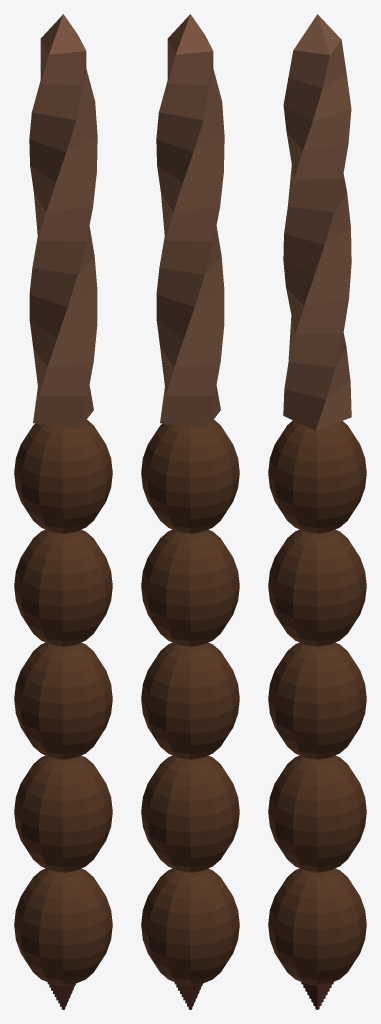
The model's file is Wand 254.glb.
3 renders of one model, left to right at view 1: azimuth 30°, elevation 25°; view 2: azimuth 210°, elevation 25°; view 3: azimuth 270°, elevation 25°, orthographic.
Visible parts, largest first — view 1: GeneratedWand; view 2: GeneratedWand; view 3: GeneratedWand.
Boxes of the visible parts, box(x1,y1,x2,y2) form: GeneratedWand: box(14, 14, 112, 1009); GeneratedWand: box(141, 14, 239, 1009); GeneratedWand: box(268, 14, 366, 1009).
Size of the model in its own units: 0.0447 by 0.4997 by 0.0449.
